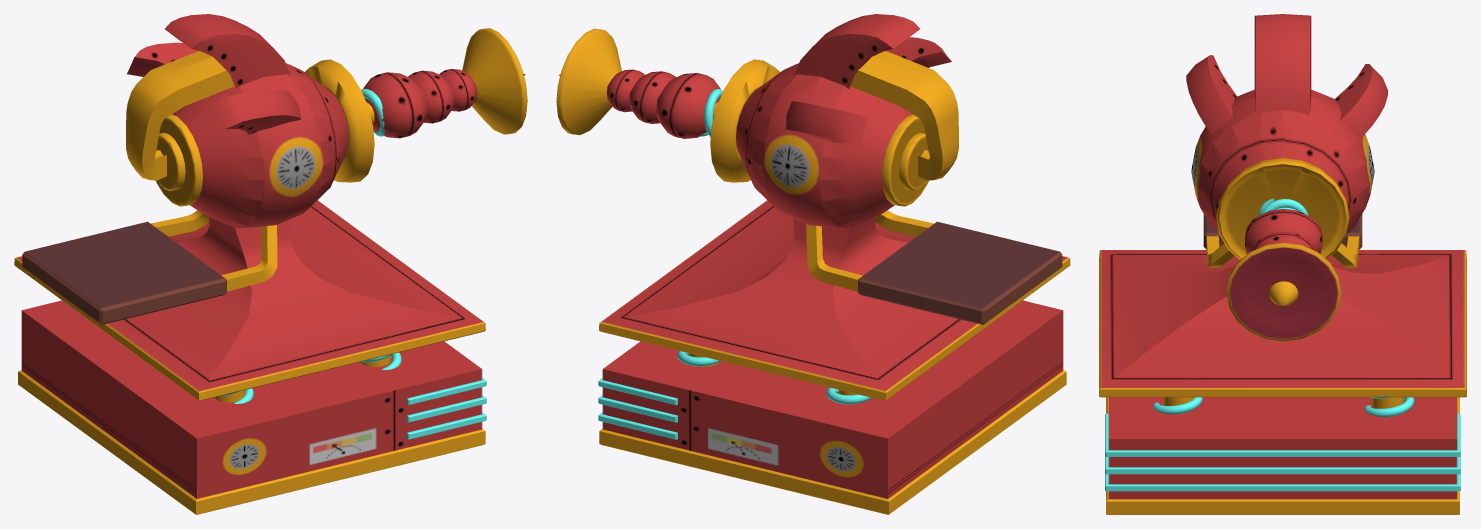
The model's file is ShrinkrayUG2.fbx.
The picture shows the model from 3 angles, left to right: view 1: azimuth 30°, elevation 25°; view 2: azimuth 150°, elevation 25°; view 3: azimuth 270°, elevation 25°; orthographic projection.
Parts seen in each view (by area): view 1: Top_ShrinkrayUG2, Bottom_ShrinkrayUG2; view 2: Top_ShrinkrayUG2, Bottom_ShrinkrayUG2; view 3: Top_ShrinkrayUG2, Bottom_ShrinkrayUG2.
Boxes of the visible parts, bbox=[...] form: Top_ShrinkrayUG2: bbox=[14, 14, 527, 400]; Bottom_ShrinkrayUG2: bbox=[18, 300, 486, 514]; Top_ShrinkrayUG2: bbox=[556, 14, 1070, 400]; Bottom_ShrinkrayUG2: bbox=[598, 300, 1066, 514]; Top_ShrinkrayUG2: bbox=[1099, 14, 1466, 397]; Bottom_ShrinkrayUG2: bbox=[1105, 397, 1460, 514].
Size of the model in its own units: 105 by 87.32 by 72.24.
Materials: 1 (1 with a texture image).
